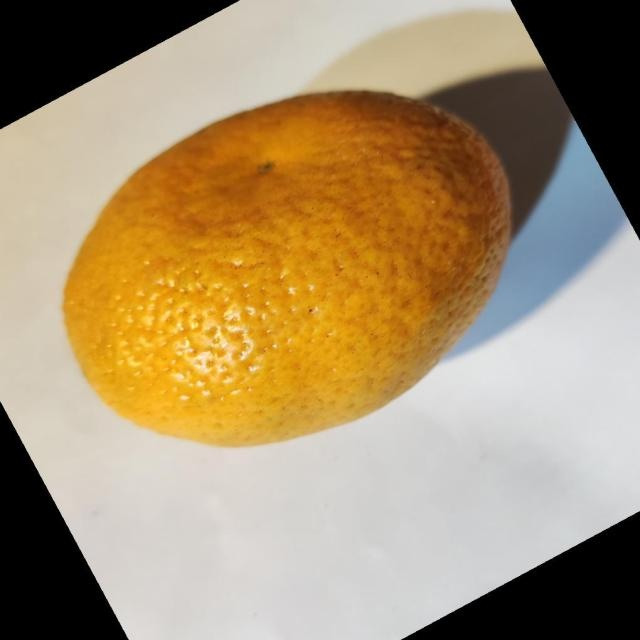agrume: (60, 87, 512, 448)
